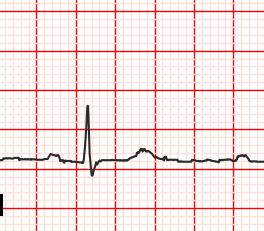LVH: (125, 141, 160, 167)
ST Depression: (78, 157, 100, 179)
